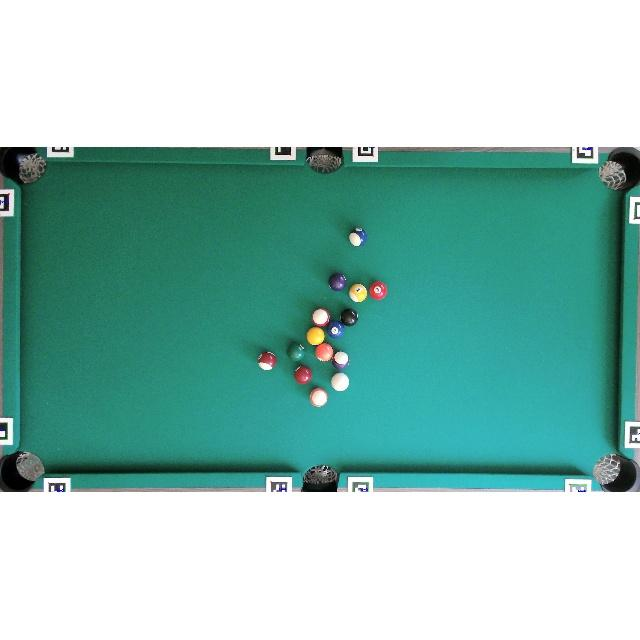cue ball: (332, 373, 349, 391)
other: (368, 280, 388, 301), (348, 227, 368, 247), (348, 283, 368, 303), (328, 272, 347, 292), (287, 342, 306, 362), (309, 388, 328, 408), (316, 342, 334, 362), (258, 351, 276, 370), (294, 365, 312, 384), (327, 320, 345, 339), (306, 327, 324, 345), (312, 308, 330, 326), (332, 351, 349, 370), (341, 308, 358, 327)
